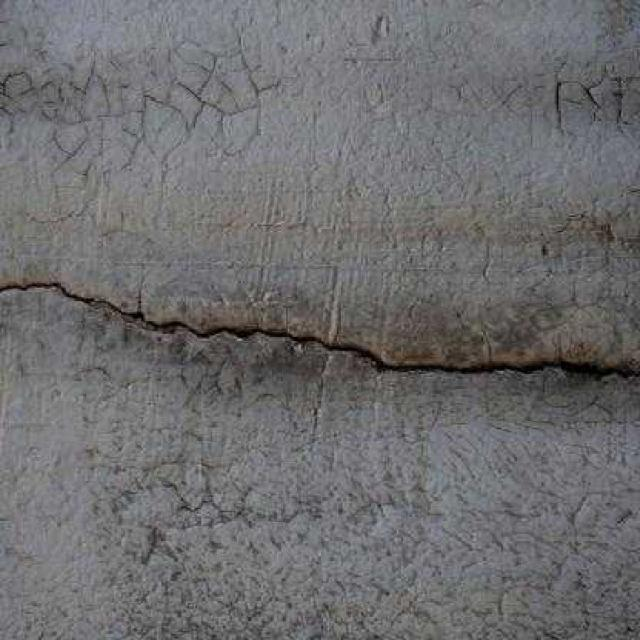D00: (0, 283, 640, 378)
